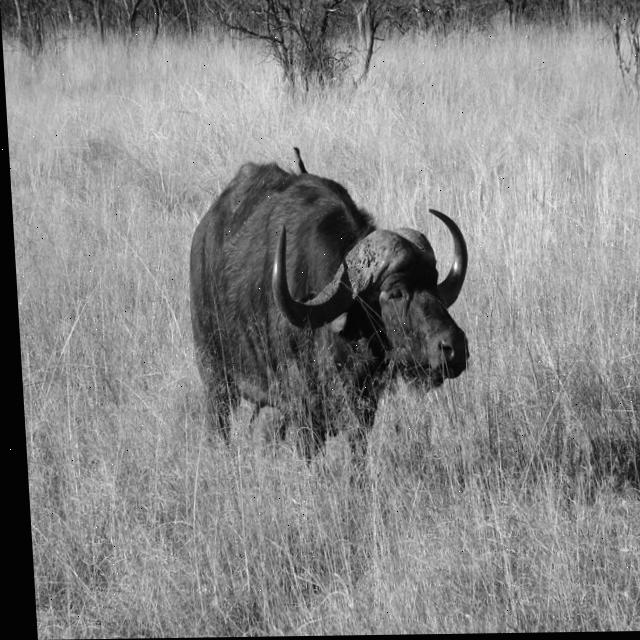Buffalo: (180, 162, 481, 496)
